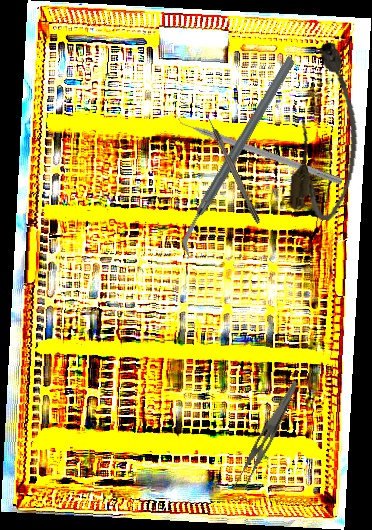Cannula: (285, 39, 372, 224)
Chopper: (124, 53, 352, 260), (171, 107, 347, 186)
Dressing Forceps: (229, 374, 300, 498)
Hook Surgical: (203, 109, 261, 225)
